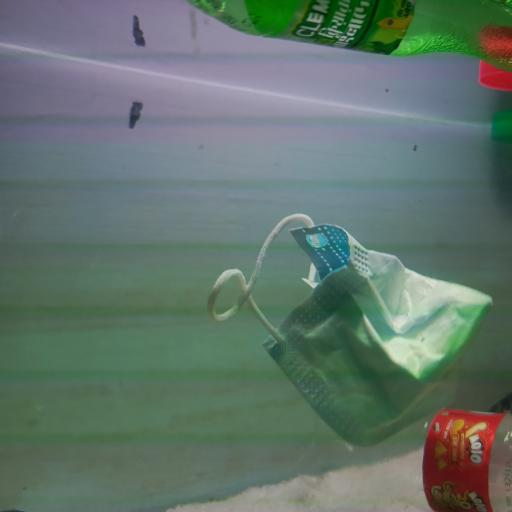bottle_cap: (479, 61, 512, 92)
mask: (206, 212, 494, 443)
plastic_bottle: (187, 0, 512, 72), (294, 410, 512, 512)
